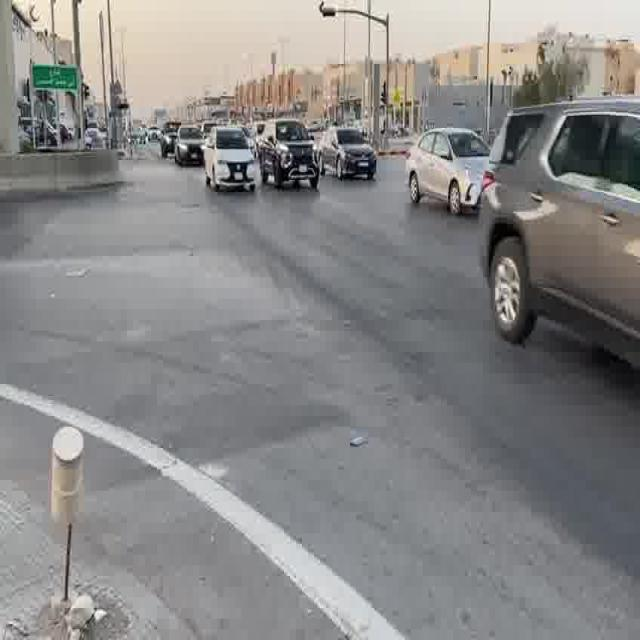bus: (404, 96, 640, 371), (392, 122, 461, 198), (253, 119, 308, 182), (199, 127, 249, 187), (321, 130, 364, 178), (174, 127, 202, 164), (159, 123, 179, 156), (237, 125, 253, 160), (147, 127, 162, 140)
car: (179, 209, 640, 640), (404, 96, 640, 371), (392, 122, 461, 198), (253, 119, 308, 182), (199, 127, 249, 187), (321, 130, 364, 178), (174, 127, 202, 164), (159, 123, 179, 156), (237, 125, 253, 160), (147, 127, 162, 140)
lanes: (179, 209, 640, 640), (226, 209, 639, 634)
lanes2: (226, 209, 639, 634), (260, 205, 640, 474)
lanes3: (260, 205, 640, 474), (286, 201, 640, 404)
lanes4: (286, 201, 640, 404), (327, 192, 640, 313)
lanes5: (327, 192, 640, 313)
